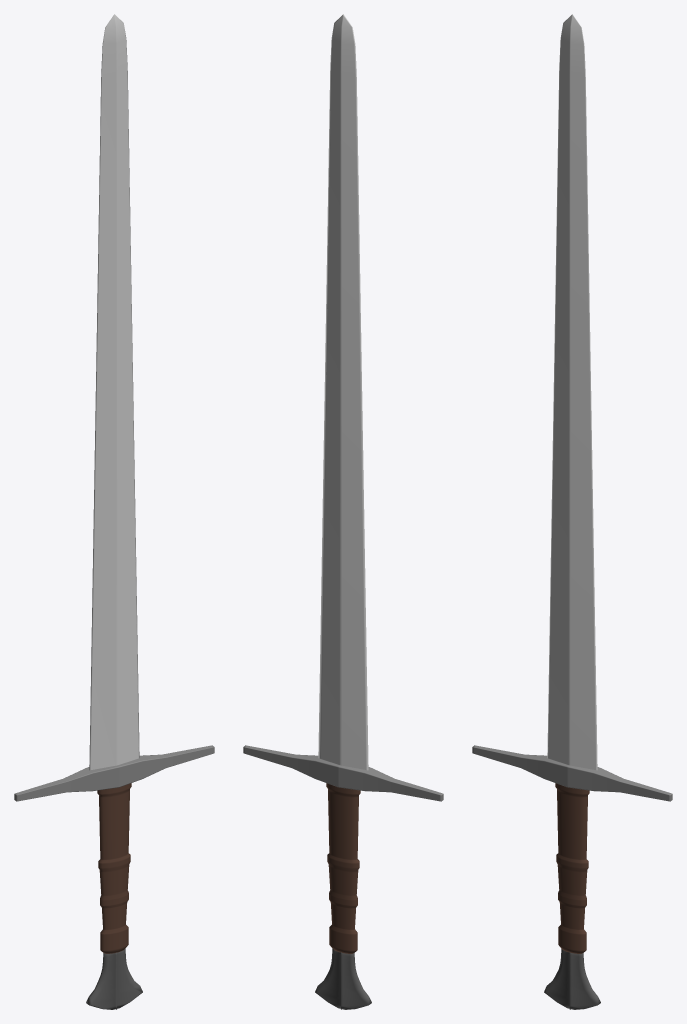
File: Sword.fbx
The picture shows the model from 3 angles, left to right: view 1: azimuth 30°, elevation 25°; view 2: azimuth 150°, elevation 25°; view 3: azimuth 330°, elevation 25°; orthographic projection.
Parts seen in each view (by area): view 1: Sword_LOD0; view 2: Sword_LOD0; view 3: Sword_LOD0.
Boxes of the visible parts, x1=… form: Sword_LOD0: x1=14, y1=14, x2=214, y2=1009; Sword_LOD0: x1=243, y1=14, x2=443, y2=1009; Sword_LOD0: x1=472, y1=14, x2=672, y2=1009.
Size of what is drawn, in the model's own units: 207 by 994 by 17.95.
